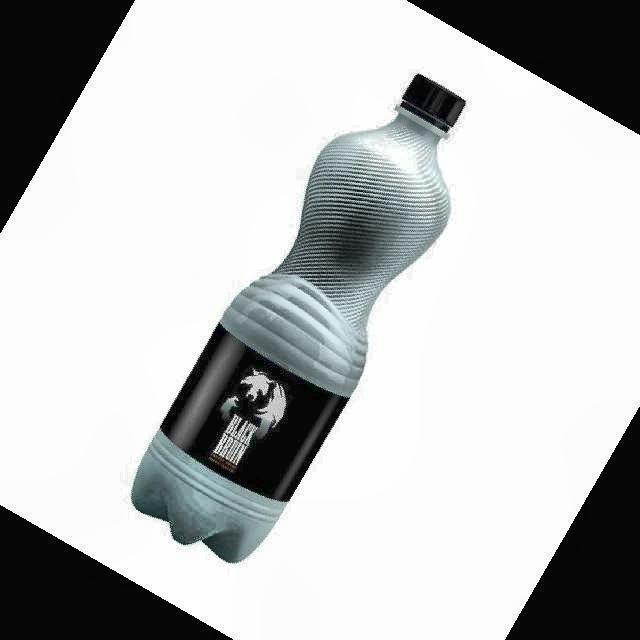plastic: (131, 75, 464, 562)
